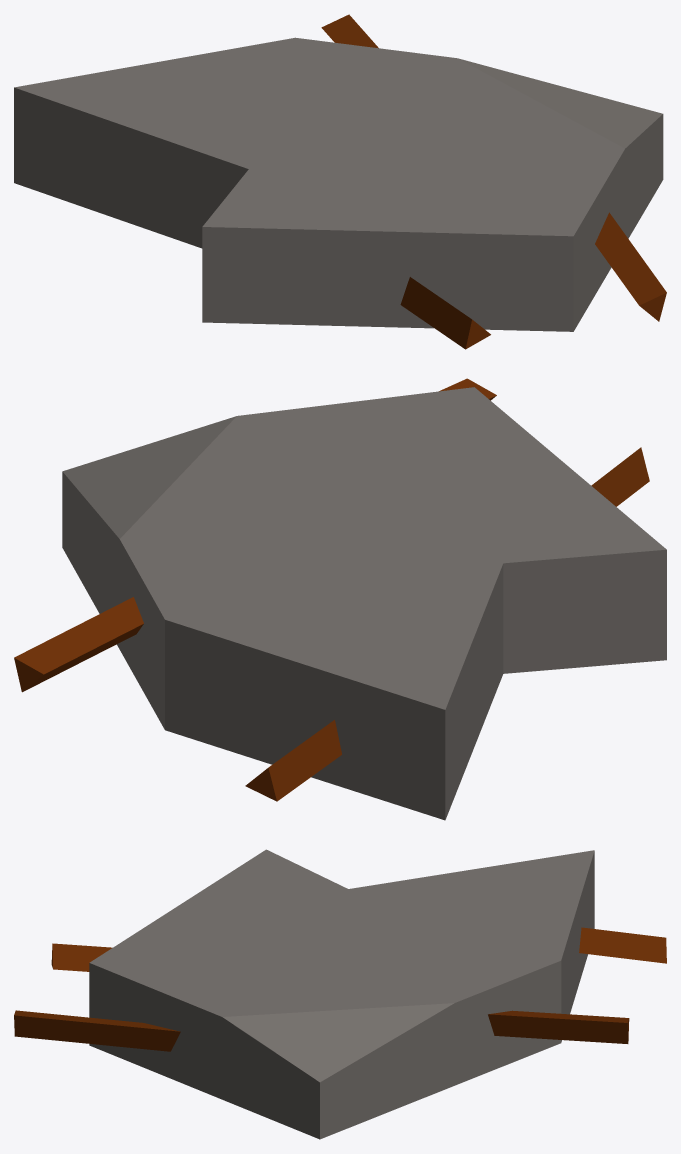
File: Rubble4.glb
The picture shows the model from 3 angles, top to bottom: view 1: azimuth 30°, elevation 25°; view 2: azimuth 150°, elevation 25°; view 3: azimuth 270°, elevation 25°; orthographic projection. The views are drawn at different scales.
Parts seen in each view (by area): view 1: Rubble4; view 2: Rubble4; view 3: Rubble4.
Part boxes in pixels (left/top/right/bottom): Rubble4: left=14, top=14, right=666, bottom=349; Rubble4: left=14, top=378, right=666, bottom=820; Rubble4: left=14, top=849, right=666, bottom=1139.
Size of the model in its own units: 0.9514 by 0.1767 by 1.27.
